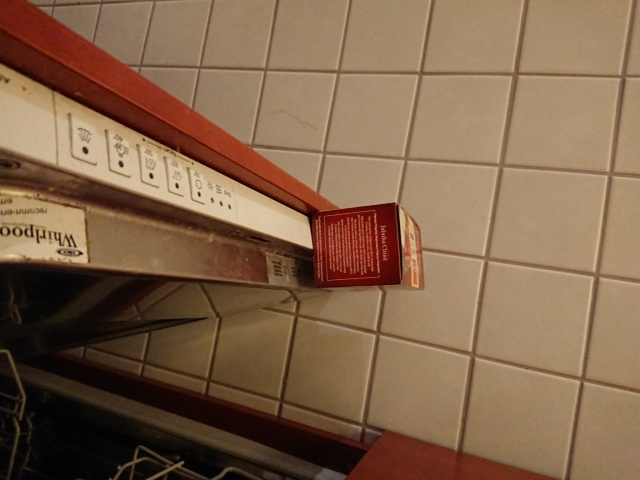Franck Apple Cinnamon Tea 60g: (306, 199, 428, 294)
